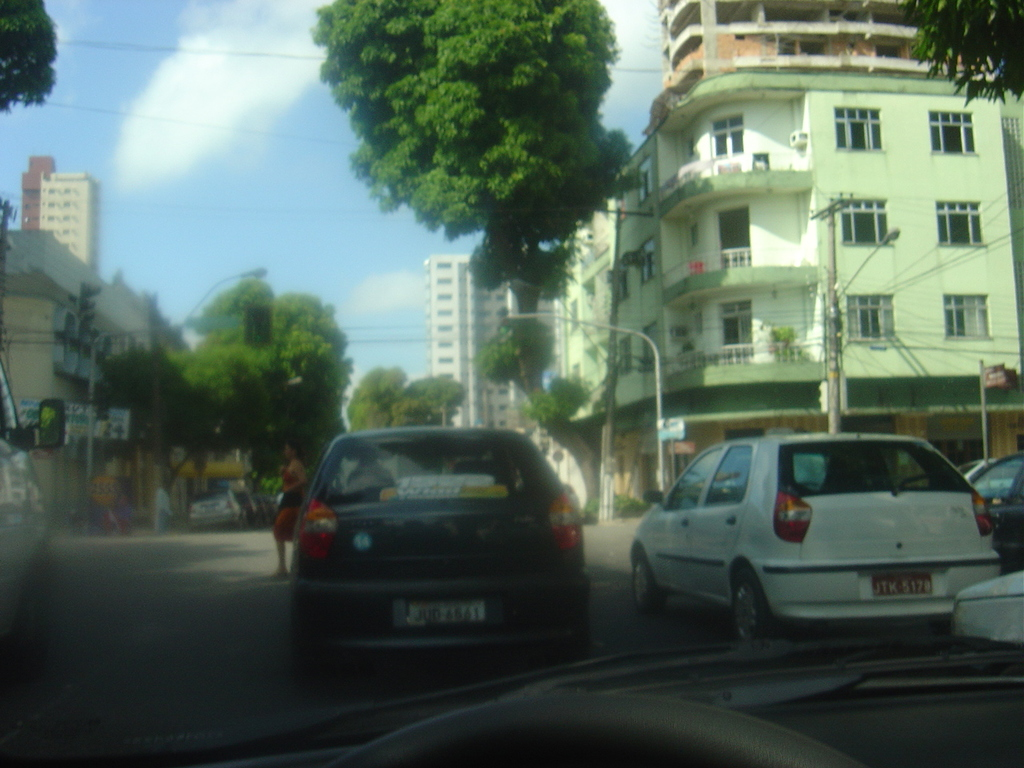Car: (0, 0, 1023, 767), (0, 351, 1023, 648), (188, 486, 280, 536)
